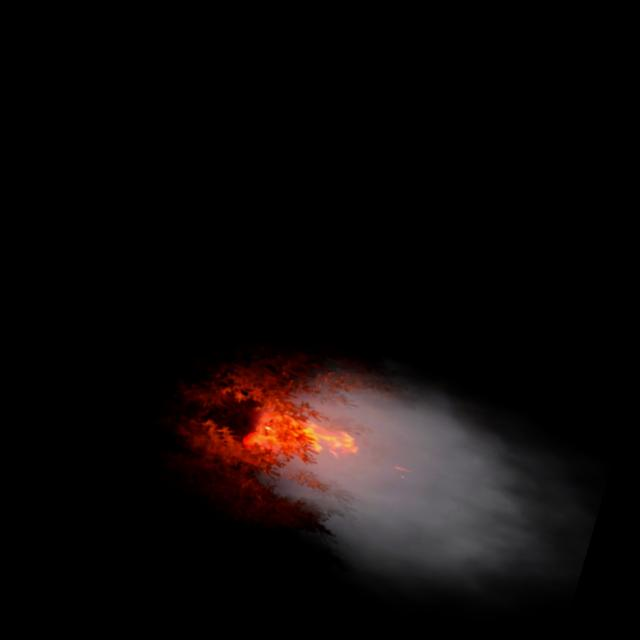fire: (260, 402, 368, 481)
smoke: (233, 330, 623, 640)
